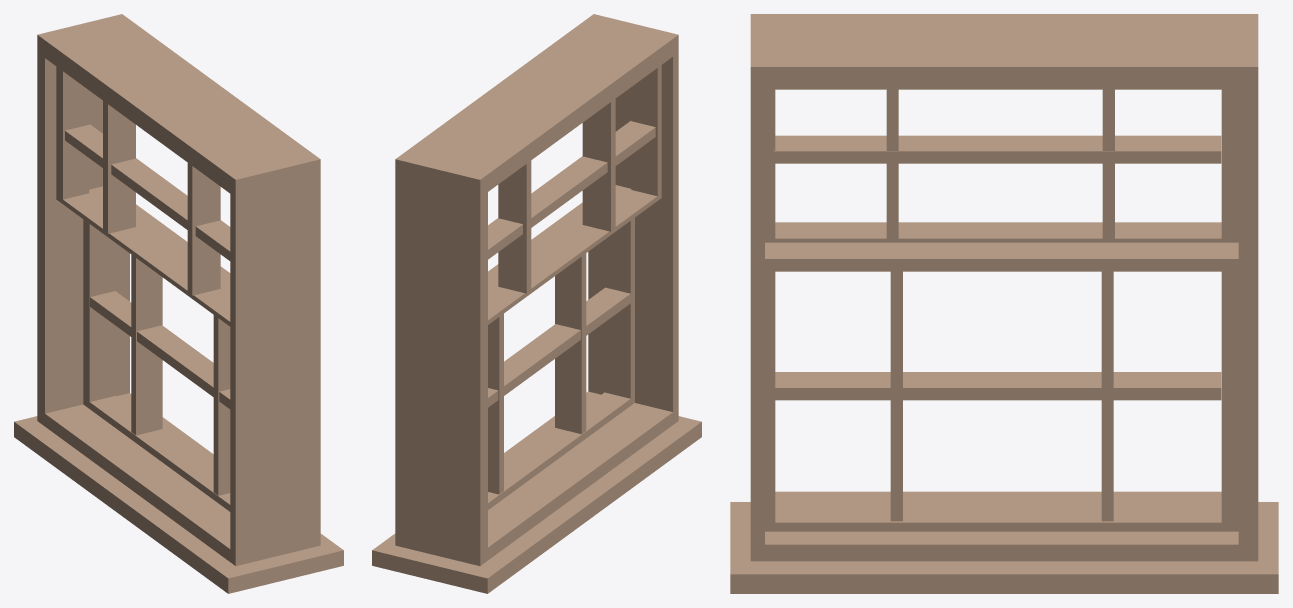
File: smallWindow.gltf
The picture shows the model from 3 angles, left to right: view 1: azimuth 30°, elevation 25°; view 2: azimuth 150°, elevation 25°; view 3: azimuth 270°, elevation 25°; orthographic projection. The views are drawn at different scales.
Parts seen in each view (by area): view 1: frame_wondow, lower_panel_window, upper_panel_window; view 2: frame_wondow, lower_panel_window, upper_panel_window; view 3: frame_wondow, lower_panel_window, upper_panel_window.
Boxes of the visible parts, <box> form: frame_wondow: <box>14,14,343,593</box>; lower_panel_window: <box>83,186,230,511</box>; upper_panel_window: <box>56,66,230,326</box>; frame_wondow: <box>372,14,701,593</box>; lower_panel_window: <box>488,185,634,509</box>; upper_panel_window: <box>488,65,661,324</box>; frame_wondow: <box>730,14,1278,593</box>; lower_panel_window: <box>765,242,1238,531</box>; upper_panel_window: <box>765,89,1238,242</box>.
Bounding box in the file's own units: 0.1171 × 0.3917 × 0.376.
1 material, 1 textured.
